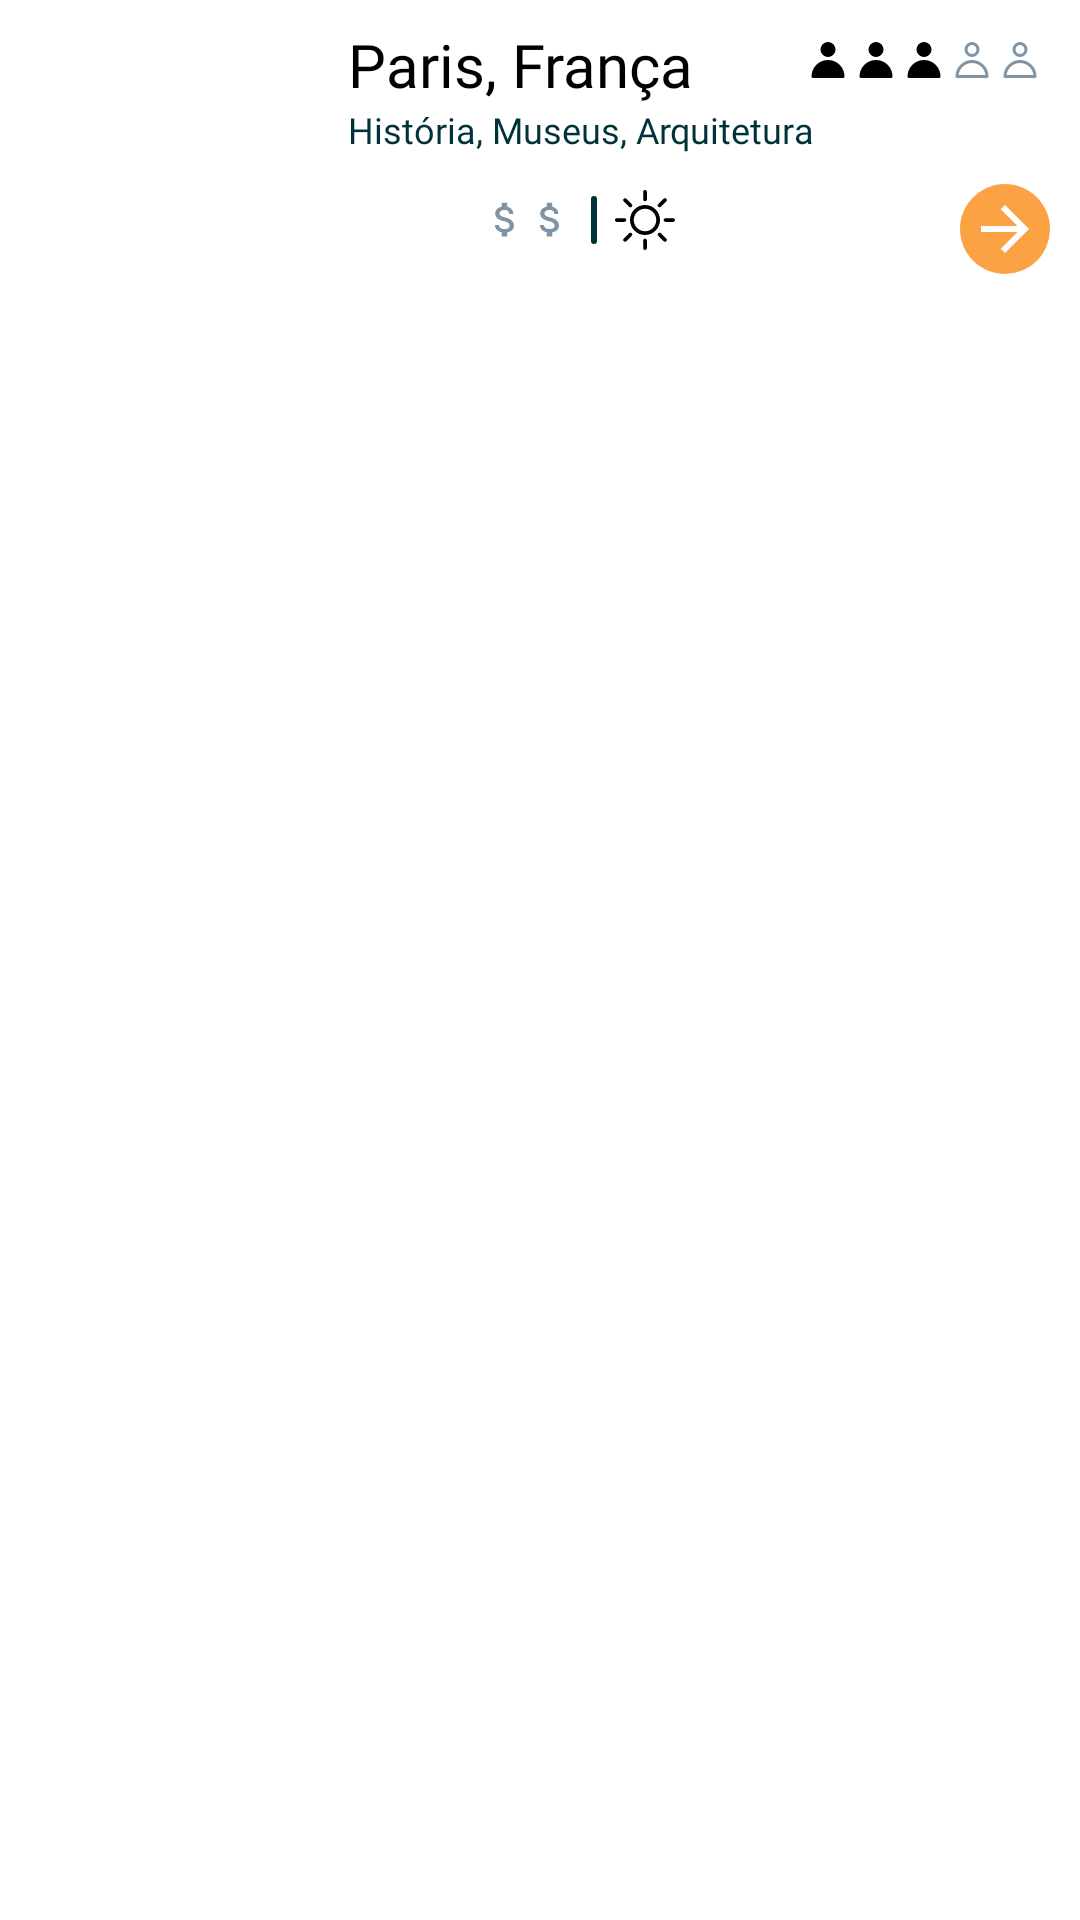

Icons on this 1080×1920 Android screen, each with the point to tap as (x=x, y=y):
arrow forward: (x=1005, y=229)
money: (x=504, y=219), (x=549, y=219)
person: (x=828, y=60), (x=876, y=60), (x=924, y=60), (x=972, y=60), (x=1020, y=60)
sun: (x=645, y=220)
